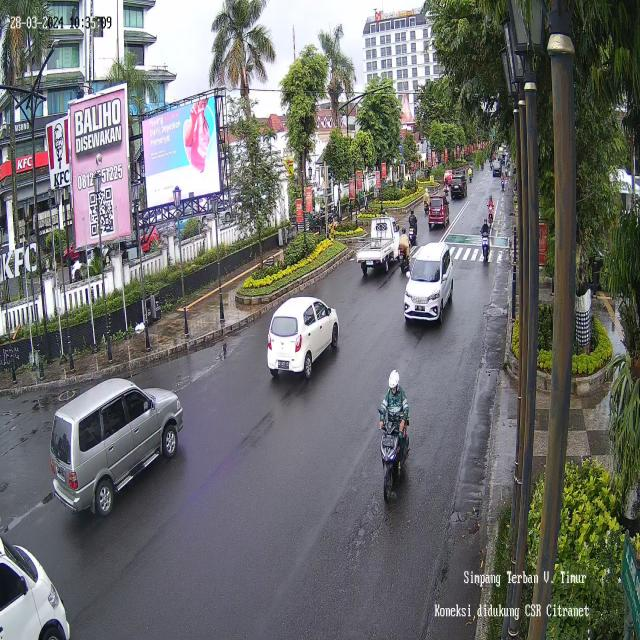car: (51, 376, 184, 510), (0, 520, 69, 640), (266, 296, 340, 378), (404, 242, 453, 326), (427, 196, 452, 230)
motorcycle: (376, 367, 412, 501), (398, 225, 410, 275), (406, 204, 419, 248), (479, 220, 491, 262), (487, 190, 495, 230)
truck: (358, 218, 402, 278)
